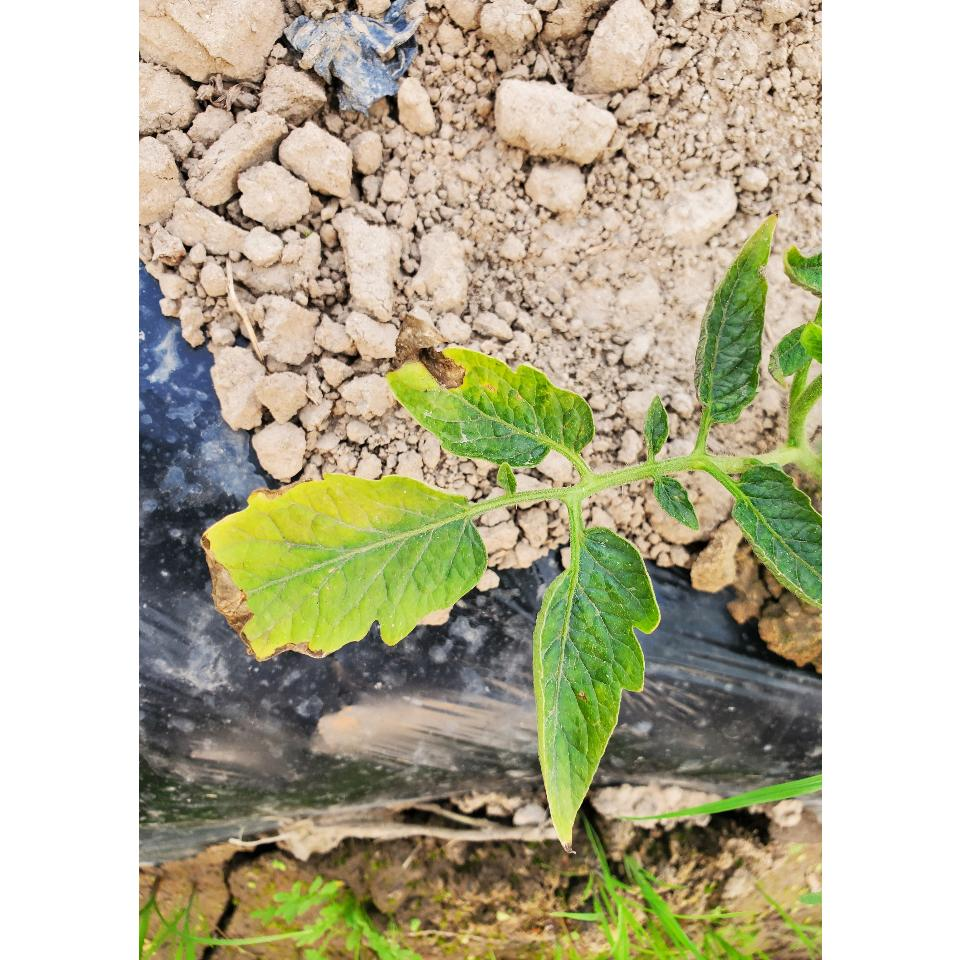tomato_bacterial_blight: (476, 494, 478, 496)
tomato_leaves: (696, 212, 784, 422), (732, 458, 822, 608)
tomato_yellow_leaf_curl_virus: (200, 476, 486, 661), (530, 529, 655, 849), (388, 314, 595, 464)
